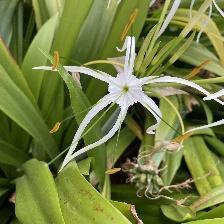spider lily: (80, 60, 183, 143)
